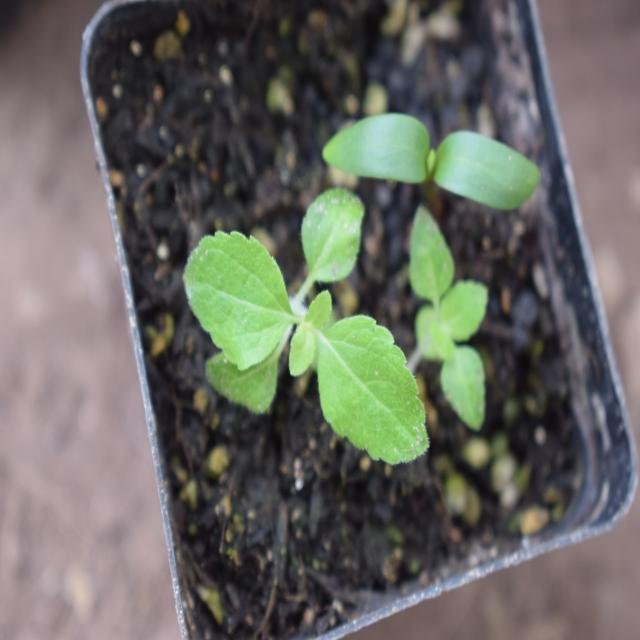billygoat_weed: (181, 187, 442, 469)
